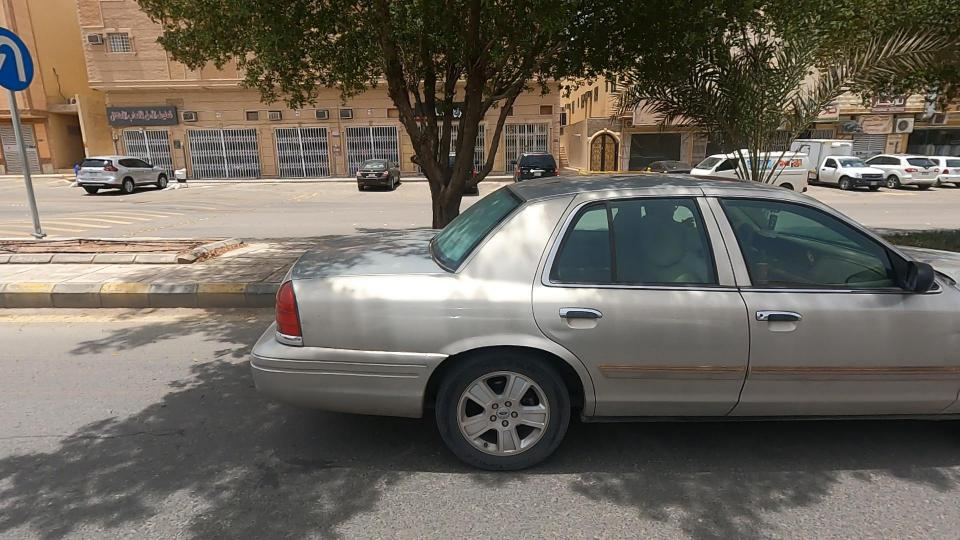CLUTTER_SIDEWALK: (0, 217, 261, 278)
